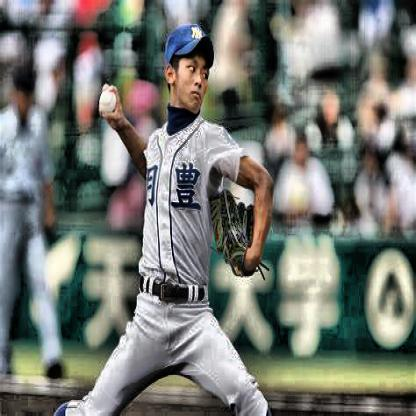baseball: (100, 90, 118, 116)
